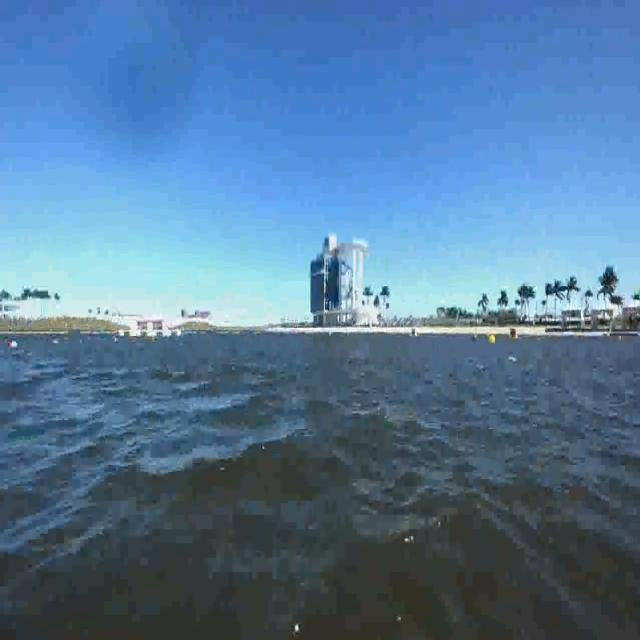yellow-buoy: (489, 334, 496, 347)
